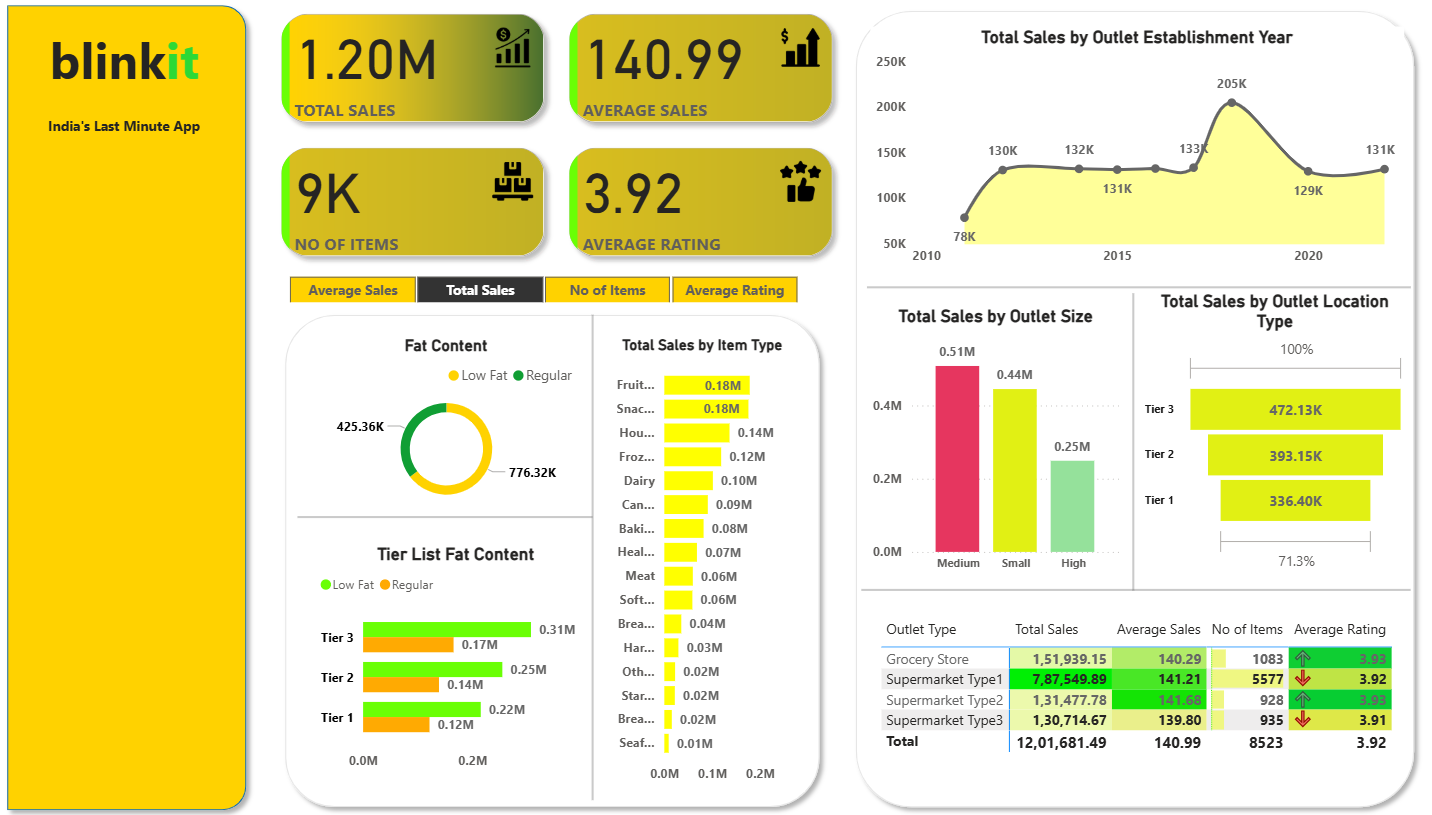

The page's visual inventory and layout, read from the dashboard file:
{"tool":"powerbi","page":{"name":"Page 1","canvas":[1400,800],"ordinal":0},"visuals":[{"type":"shape","box":[824.8,5.5,560.2,791.6],"z":0},{"type":"shape","box":[270.1,301.2,537,496],"z":1000},{"type":"shape","box":[0,0,250.1,799.9],"z":2000},{"type":"textbox","box":[26.9,111.6,192.2,33.1],"z":3000},{"type":"textbox","box":[35.1,22.7,175.7,88.9],"z":4000},{"type":"cardVisual","fields":{"Data":["BlinkIT Grocery Data.Total Sales","BlinkIT Grocery Data.Average Sales","BlinkIT Grocery Data.No of Items","BlinkIT Grocery Data.Average Rating"]},"box":[258,0,570.2,270.1],"z":5000},{"type":"pieChart","title":"Fat Content","fields":{"Y":["BlinkIT Grocery Data.Total Sales"],"Category":["BlinkIT Grocery Data.Item Fat Content"]},"box":[303.4,329.9,264.6,171.6],"z":6000},{"type":"slicer","fields":{"Values":["Parameter.Parameter"]},"box":[258,265.7,542.5,32.1],"z":7000},{"type":"clusteredBarChart","title":"Tier List Fat Content","fields":{"Y":["BlinkIT Grocery Data.Total Sales"],"Category":["BlinkIT Grocery Data.Outlet Location Type"],"Series":["BlinkIT Grocery Data.Item Fat Content"]},"box":[307.8,532.5,274.6,229.2],"z":8000},{"type":"shape","box":[291.2,490.5,286.8,31],"z":9000},{"type":"shape","box":[551.4,310,53.1,471.7],"z":10000},{"type":"barChart","fields":{"Y":["BlinkIT Grocery Data.Total Sales"],"Category":["BlinkIT Grocery Data.Item Type"]},"box":[583.5,329.9,200.4,442.9],"z":11000},{"type":"lineChart","fields":{"Y":["BlinkIT Grocery Data.Total Sales"],"Category":["BlinkIT Grocery Data.Outlet Establishment Year"]},"box":[847,29.9,518.2,240.3],"z":12000},{"type":"shape","box":[838.1,565.8,533.7,23.3],"z":13000},{"type":"shape","box":[844,269.4,528.6,28.1],"z":14000},{"type":"columnChart","fields":{"Y":["BlinkIT Grocery Data.Total Sales"],"Category":["BlinkIT Grocery Data.Outlet Size"]},"box":[843.7,301.2,250.2,267.9],"z":15000},{"type":"funnel","fields":{"Y":["BlinkIT Grocery Data.Total Sales"],"Category":["BlinkIT Grocery Data.Outlet Location Type"]},"box":[1108.3,286.8,263.5,279],"z":16000},{"type":"pivotTable","fields":{"Rows":["BlinkIT Grocery Data.Outlet Type"],"Values":["BlinkIT Grocery Data.Total Sales","BlinkIT Grocery Data.Average Sales","BlinkIT Grocery Data.No of Items","BlinkIT Grocery Data.Average Rating"]},"box":[852.5,599,513.7,162.8],"z":17000},{"type":"shape","box":[1076.2,289,54.3,289],"z":18000}]}

Visuals, with their boxes in screenshot pixels (x1, y1, x2, y2), scaled from the page's 1400x800 canvas onto the 1432x815 screenshot:
shape: locate(844, 6, 1417, 812)
shape: locate(276, 307, 826, 812)
shape: locate(0, 0, 256, 814)
textbox: locate(28, 114, 224, 147)
textbox: locate(36, 23, 216, 114)
cardVisual - BlinkIT Grocery Data.Total Sales x BlinkIT Grocery Data.Average Sales: locate(264, 0, 847, 275)
"Fat Content" pieChart: locate(310, 336, 581, 511)
slicer - Parameter.Parameter: locate(264, 271, 819, 303)
"Tier List Fat Content" clusteredBarChart: locate(315, 542, 596, 776)
shape: locate(298, 500, 591, 531)
shape: locate(564, 316, 618, 796)
barChart - BlinkIT Grocery Data.Total Sales x BlinkIT Grocery Data.Item Type: locate(597, 336, 802, 787)
lineChart - BlinkIT Grocery Data.Total Sales x BlinkIT Grocery Data.Outlet Establishment Year: locate(866, 30, 1396, 275)
shape: locate(857, 576, 1403, 600)
shape: locate(863, 274, 1404, 303)
columnChart - BlinkIT Grocery Data.Total Sales x BlinkIT Grocery Data.Outlet Size: locate(863, 307, 1119, 580)
funnel - BlinkIT Grocery Data.Total Sales x BlinkIT Grocery Data.Outlet Location Type: locate(1134, 292, 1403, 576)
pivotTable - BlinkIT Grocery Data.Outlet Type x BlinkIT Grocery Data.Total Sales: locate(872, 610, 1397, 776)
shape: locate(1101, 294, 1156, 589)
